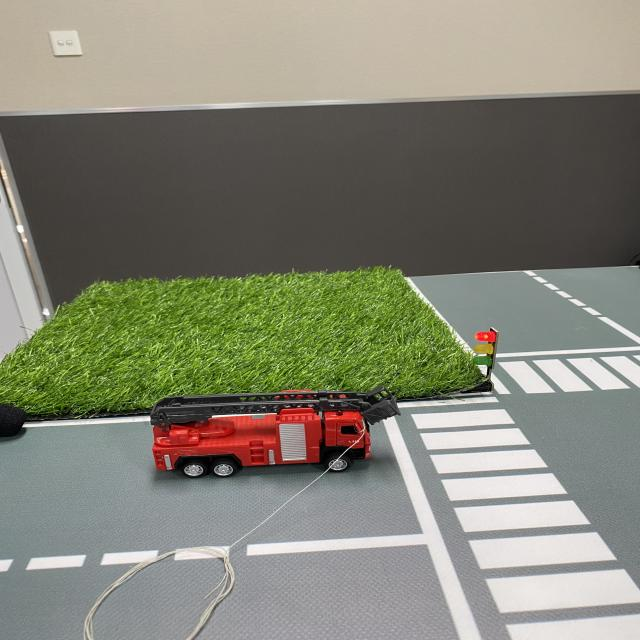Fire Truck: (144, 380, 407, 481)
